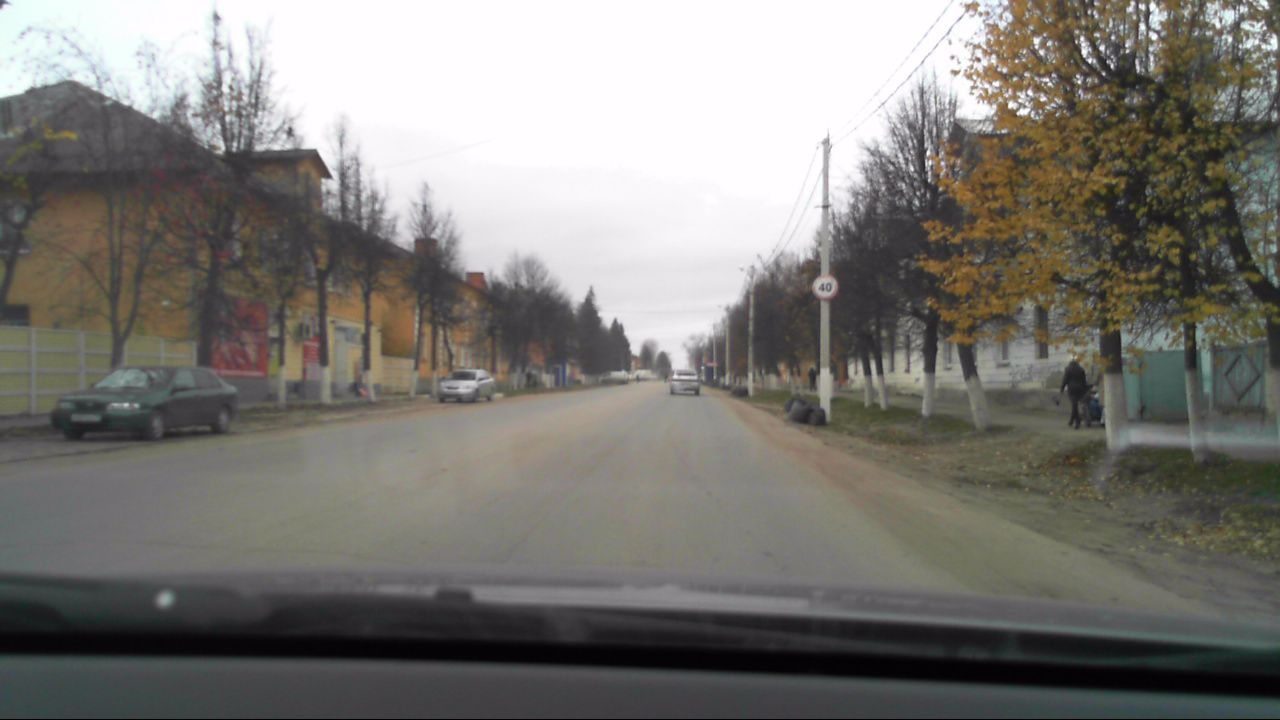speed_warning_40: (812, 274, 839, 300)
